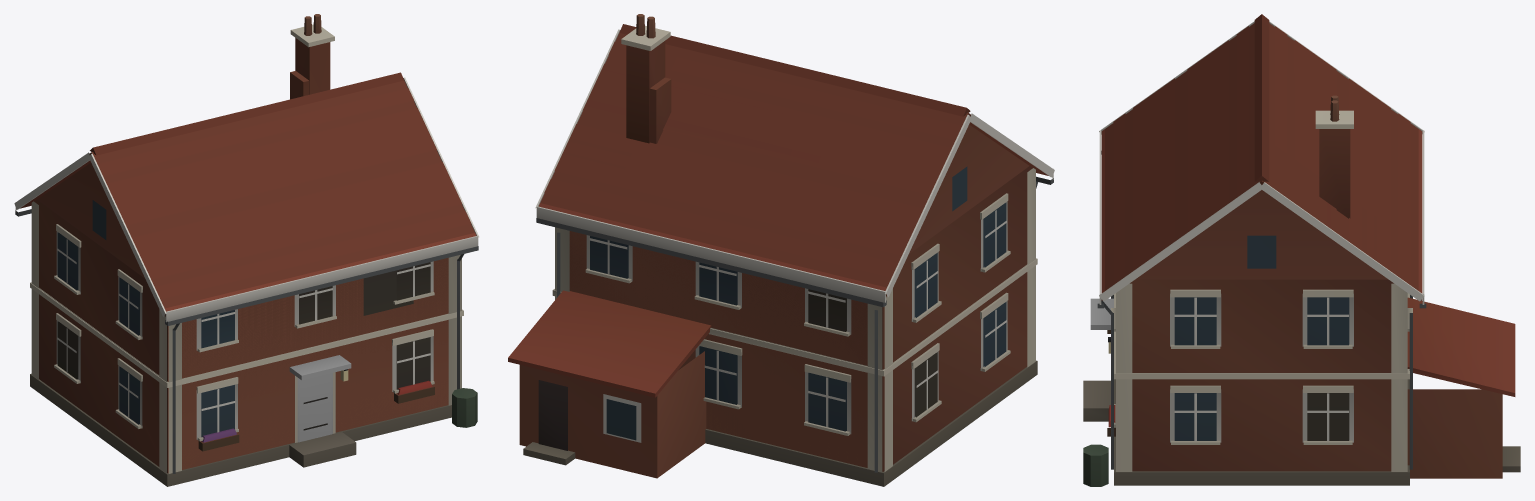
The model's file is bld_any_house_a.glb.
3 views of the same model, side by side, from view 1: azimuth 30°, elevation 25°; view 2: azimuth 150°, elevation 25°; view 3: azimuth 270°, elevation 25° (orthographic). The views are drawn at different scales.
Parts seen in each view (by area): view 1: bld_any_house_a_LOD0_mesh, bld_any_house_a_LOD1_mesh, bld_any_house_a_LOD2_mesh; view 2: bld_any_house_a_LOD0_mesh, bld_any_house_a_LOD2_mesh, bld_any_house_a_LOD1_mesh; view 3: bld_any_house_a_LOD0_mesh, bld_any_house_a_LOD1_mesh, bld_any_house_a_LOD2_mesh.
Part boxes in pixels (x1=…): bld_any_house_a_LOD0_mesh: x1=14, y1=14, x2=479, y2=486; bld_any_house_a_LOD1_mesh: x1=30, y1=108, x2=476, y2=486; bld_any_house_a_LOD2_mesh: x1=92, y1=71, x2=474, y2=473; bld_any_house_a_LOD0_mesh: x1=508, y1=14, x2=1054, y2=486; bld_any_house_a_LOD2_mesh: x1=540, y1=33, x2=968, y2=471; bld_any_house_a_LOD1_mesh: x1=538, y1=45, x2=1036, y2=486; bld_any_house_a_LOD0_mesh: x1=1083, y1=14, x2=1520, y2=486; bld_any_house_a_LOD1_mesh: x1=1101, y1=40, x2=1422, y2=472; bld_any_house_a_LOD2_mesh: x1=1105, y1=23, x2=1418, y2=290.
Bounding box in the file's own units: 10.71 × 10.92 × 12.
